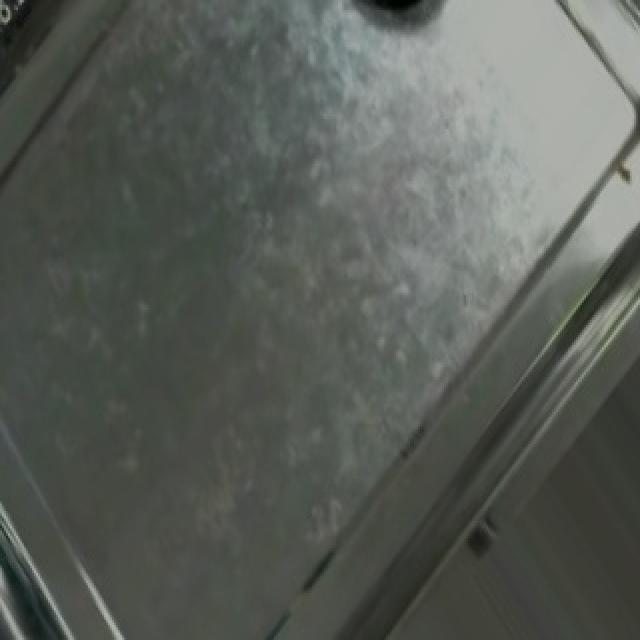Fruit: (340, 0, 466, 25)
